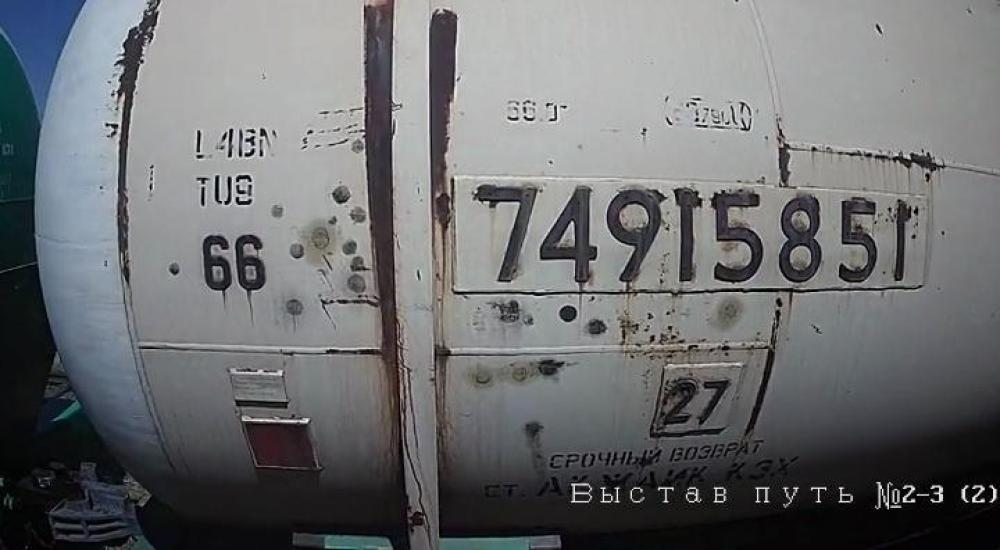Wagon-number: (472, 177, 916, 292)
